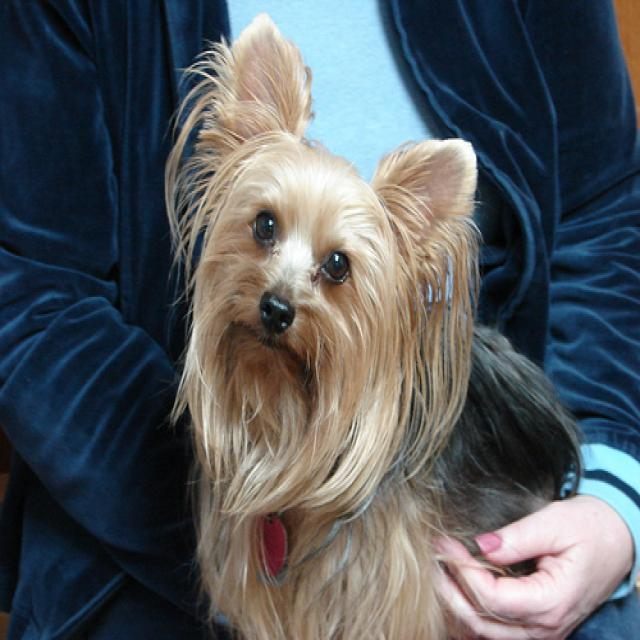dog: (196, 10, 474, 384)
